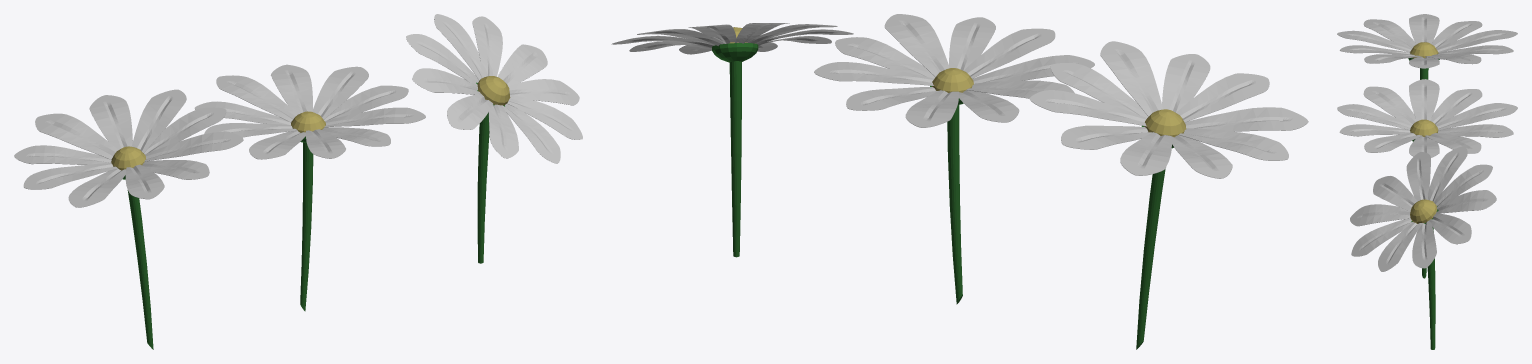
Rendered from flower.obj.
3 renders of one model, left to right at view 1: azimuth 30°, elevation 25°; view 2: azimuth 150°, elevation 25°; view 3: azimuth 270°, elevation 25°, orthographic. The views are drawn at different scales.
Visible parts, largest first — view 1: Line39, Line34, Line40, Line03, Line05, Line32, Line04, Cylinder02, Line37, Line35, Cylinder03, Line36 (+24 smaller); view 2: Line32, Line33, Line31, Line07, Stengel_01, Cylinder02, Line37, Line34, Line38, Line09, Line36, Cylinder03 (+17 smaller); view 3: Line03, Line01, Line10, Line22, Line26, Line27, Line28, Line21, Line29, Line25, Line02, Line30 (+22 smaller).
Boxes of the visible parts, bbox=[...] form: Line39: bbox=[35, 113, 118, 159]; Line34: bbox=[132, 89, 186, 153]; Line40: bbox=[89, 95, 132, 149]; Line03: bbox=[216, 75, 297, 122]; Line05: bbox=[312, 66, 368, 119]; Line32: bbox=[144, 131, 243, 161]; Line04: bbox=[271, 64, 312, 114]; Cylinder02: bbox=[300, 142, 313, 311]; Line37: bbox=[144, 107, 226, 154]; Line35: bbox=[14, 145, 111, 164]; Cylinder03: bbox=[127, 190, 153, 349]; Line36: bbox=[23, 163, 117, 189]; Line32: bbox=[1100, 41, 1162, 116]; Line33: bbox=[1185, 107, 1308, 131]; Line31: bbox=[1176, 73, 1269, 122]; Line07: bbox=[884, 14, 949, 76]; Stengel_01: bbox=[729, 61, 741, 257]; Cylinder02: bbox=[947, 105, 962, 304]; Line37: bbox=[1051, 63, 1147, 122]; Line34: bbox=[1030, 90, 1146, 126]; Line38: bbox=[1162, 54, 1210, 112]; Line09: bbox=[963, 28, 1055, 78]; Line36: bbox=[1179, 128, 1288, 160]; Cylinder03: bbox=[1136, 169, 1165, 349]; Line03: bbox=[1436, 103, 1517, 130]; Line01: bbox=[1409, 79, 1439, 121]; Line10: bbox=[1363, 86, 1416, 124]; Line22: bbox=[1427, 146, 1467, 201]; Line26: bbox=[1434, 164, 1492, 209]; Line27: bbox=[1406, 152, 1430, 200]; Line28: bbox=[1350, 204, 1410, 226]; Line21: bbox=[1373, 176, 1417, 211]; Line29: bbox=[1351, 218, 1412, 256]; Line25: bbox=[1436, 190, 1496, 213]; Line02: bbox=[1431, 89, 1482, 124]; Line30: bbox=[1378, 222, 1422, 271].
Size of the model in its own units: 162 by 63.15 by 56.55.
